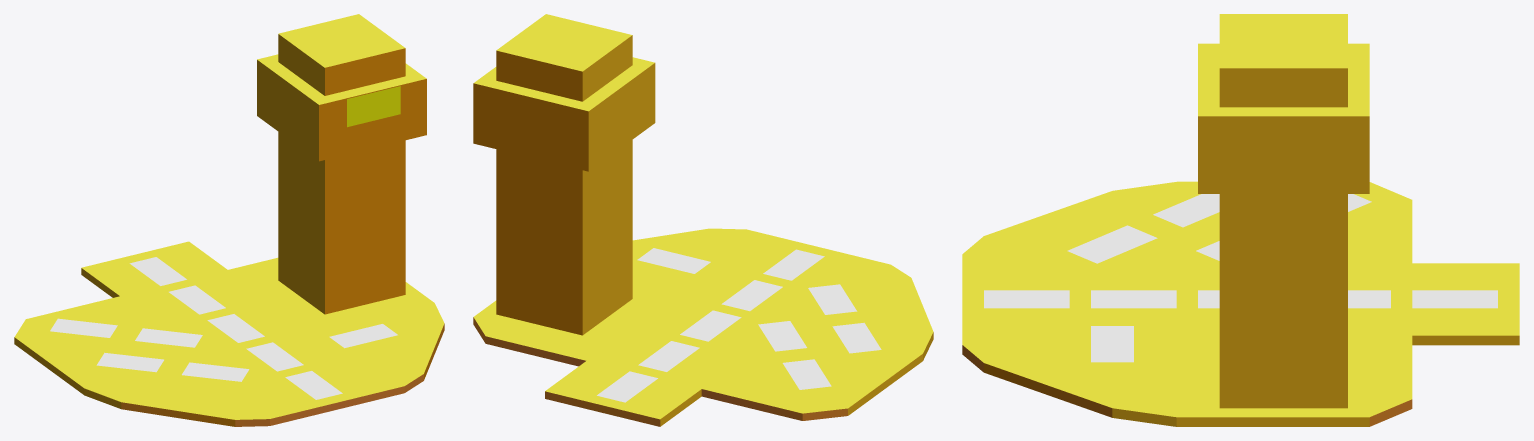
File: Airport.YellowComet.glb
The picture shows the model from 3 angles, left to right: view 1: azimuth 30°, elevation 25°; view 2: azimuth 150°, elevation 25°; view 3: azimuth 270°, elevation 25°; orthographic projection. The views are drawn at different scales.
Parts seen in each view (by area): view 1: Airport.YellowComet; view 2: Airport.YellowComet; view 3: Airport.YellowComet.
Part boxes in pixels (<box>): Airport.YellowComet: <box>14,14,444,426</box>; Airport.YellowComet: <box>473,14,933,426</box>; Airport.YellowComet: <box>962,14,1519,426</box>.
Size of the model in its own units: 2.6 by 1.8 by 2.6.
2 materials, 1 textured.
